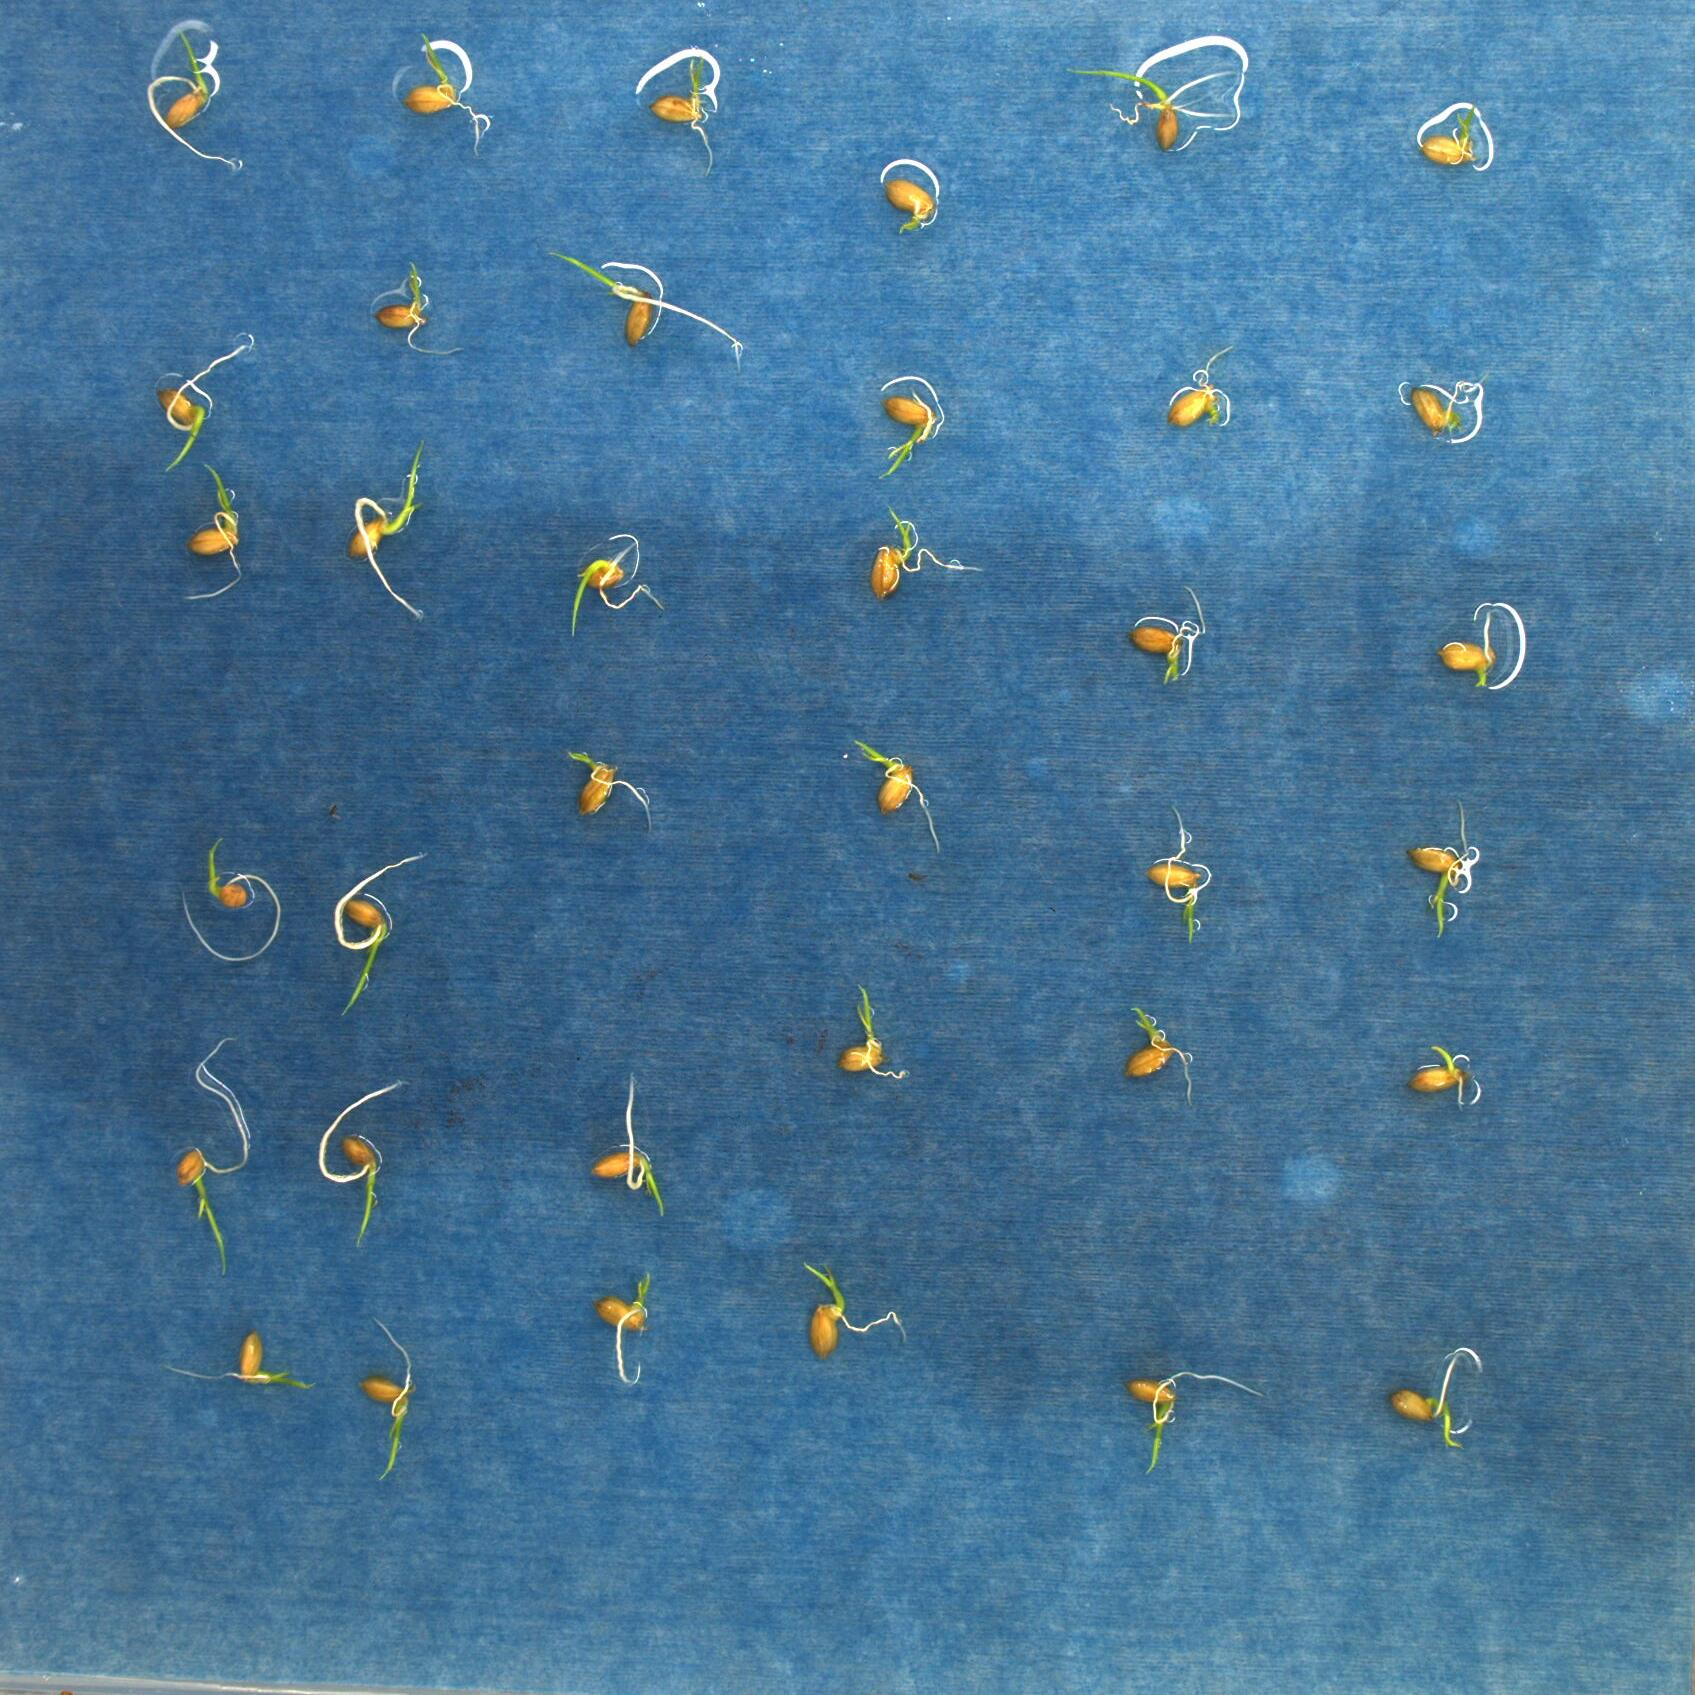not sprout: (369, 262, 461, 365), (1156, 354, 1239, 453), (1411, 118, 1485, 189), (875, 168, 947, 236)
sprout: (341, 418, 449, 663), (154, 1018, 253, 1271), (522, 265, 745, 369), (307, 1085, 414, 1270), (1057, 57, 1243, 160), (324, 849, 424, 1028), (573, 522, 671, 698), (570, 1091, 688, 1229), (154, 20, 253, 183), (154, 328, 261, 473), (1133, 1357, 1257, 1478), (360, 1332, 445, 1503), (182, 830, 286, 969), (846, 730, 947, 860), (1138, 798, 1226, 944), (860, 503, 973, 615), (393, 39, 497, 160), (784, 1257, 908, 1357), (633, 68, 744, 172), (590, 1260, 671, 1399), (823, 973, 913, 1096), (1388, 1347, 1481, 1465), (185, 467, 261, 612), (1402, 809, 1485, 933), (1122, 594, 1218, 698), (1400, 340, 1496, 438), (863, 383, 944, 497), (174, 1324, 312, 1388), (1118, 1007, 1200, 1108), (1403, 1031, 1496, 1110), (567, 740, 649, 826), (1434, 605, 1507, 692)
